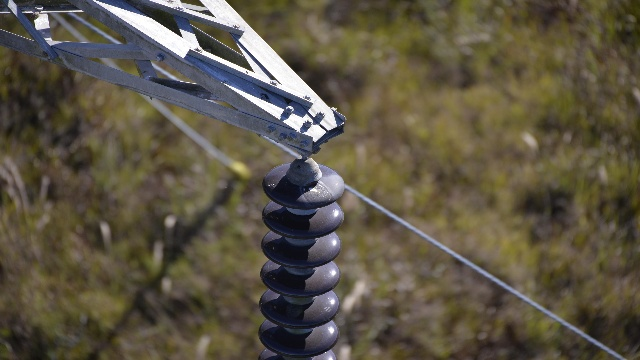insulator_unspecified: (259, 161, 344, 359)
pollution_flashover_local: (300, 179, 335, 204)
